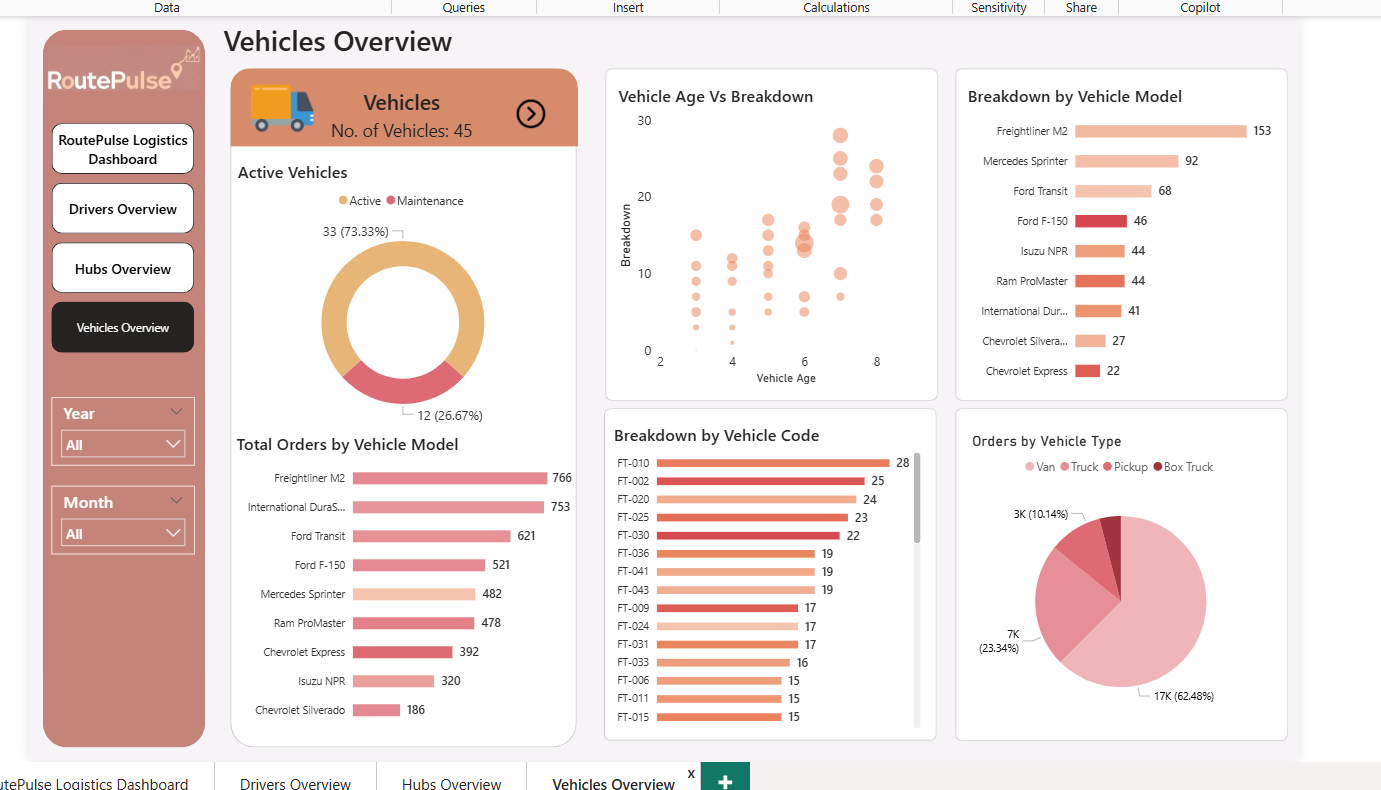

The dashboard page shown, as its layout file describes it:
{"tool":"powerbi","page":{"name":"Vehicles Overview","canvas":[1450,850],"ordinal":3},"visuals":[{"type":"shape","box":[15.9,14.3,185.7,820.6],"z":0},{"type":"textbox","box":[217.6,0,525,58.8],"z":1000},{"type":"slicer","fields":{"Values":["Date Table.Year"]},"box":[25.6,434.4,163.8,78.3],"z":2000},{"type":"slicer","fields":{"Values":["Date Table.Month"]},"box":[25.6,535.5,163.8,78.3],"z":3000},{"type":"image","box":[21.4,8.5,175.2,99.7],"z":10000},{"type":"shape","box":[229.3,58.4,395.9,776.2],"z":14001},{"type":"shape","box":[229.3,58.4,397.4,89.7],"z":14002},{"type":"card","fields":{"Values":["Vehicles.No. of Vehicles"]},"box":[339.8,103.4,176.6,55.5],"z":14003},{"type":"textbox","box":[376.9,76.3,101.1,44.2],"z":14004},{"type":"donutChart","title":"Active Vehicles","fields":{"Category":["Vehicles.Vehicle Status"],"Y":["CountNonNull(Vehicles.Vehicle ID)"]},"box":[239.3,163.8,377.4,310.5],"z":14005},{"type":"barChart","fields":{"Category":["Vehicles.Vehicle Model"],"Y":["Orders.Total Orders"]},"box":[236.4,474.3,383.1,339],"z":14006},{"type":"image","box":[543.5,94.9,61.2,32.8],"z":14007},{"type":"shape","box":[658,58.4,380,380],"z":14008},{"type":"shape","box":[656.6,447.2,380.3,380],"z":14009},{"type":"shape","box":[1058.2,447.2,380,380.3],"z":14010},{"type":"shape","box":[1058.2,58.4,380,380],"z":14011},{"type":"scatterChart","title":"Vehicle Age Vs Breakdown","fields":{"X":["Vehicles.Vehicle Age"],"Y":["Vehicles.Breakdown"],"Size":["Sum(Vehicles.Breakdown)1"]},"box":[668,76.9,350.4,347.5],"z":14012},{"type":"barChart","title":"Breakdown by Vehicle Code","fields":{"Y":["Sum(Vehicles.Breakdown)"],"Category":["Vehicles.Vehicle Code"]},"box":[668,464.3,350.4,348.9],"z":14013},{"type":"barChart","title":"Breakdown by Vehicle Model","fields":{"Y":["Sum(Vehicles.Breakdown)"],"Category":["Vehicles.Vehicle Model"]},"box":[1072.5,76.9,350.4,348.9],"z":14014},{"type":"pieChart","title":"Orders by Vehicle Type","fields":{"Category":["Orders.Vehicle Type"],"Y":["Orders.Total Orders"]},"box":[1072.5,474.3,350.4,339],"z":14015},{"type":"pageNavigator","box":[25.6,121.1,163.8,263.5],"z":14016},{"type":"image","box":[239.3,68.4,101.1,71.2],"z":14018}]}

Visuals, with their boxes on the page's 1450x850 design canvas (x1, y1, x2, y2). These are canvas units, not pixel positions in the 1381x790 screenshot, which may show the page scaled, cropped or inside an application window:
shape: 16 14 202 835
textbox: 218 0 743 59
slicer - Date Table.Year: 26 434 189 513
slicer - Date Table.Month: 26 536 189 614
image: 21 8 197 108
shape: 229 58 625 835
shape: 229 58 627 148
card - Vehicles.No. of Vehicles: 340 103 516 159
textbox: 377 76 478 120
"Active Vehicles" donutChart: 239 164 617 474
barChart - Vehicles.Vehicle Model x Orders.Total Orders: 236 474 620 813
image: 544 95 605 128
shape: 658 58 1038 438
shape: 657 447 1037 827
shape: 1058 447 1438 828
shape: 1058 58 1438 438
"Vehicle Age Vs Breakdown" scatterChart: 668 77 1018 424
"Breakdown by Vehicle Code" barChart: 668 464 1018 813
"Breakdown by Vehicle Model" barChart: 1072 77 1423 426
"Orders by Vehicle Type" pieChart: 1072 474 1423 813
pageNavigator: 26 121 189 385
image: 239 68 340 140
